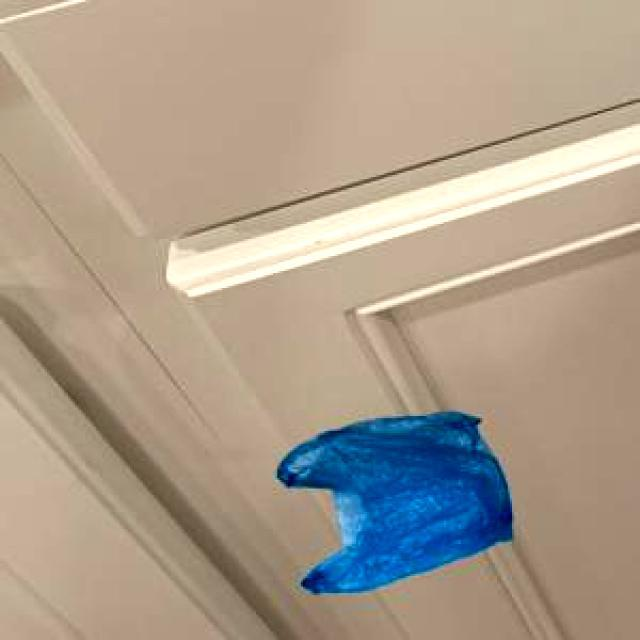Plastic_Bag: (274, 408, 509, 592)
